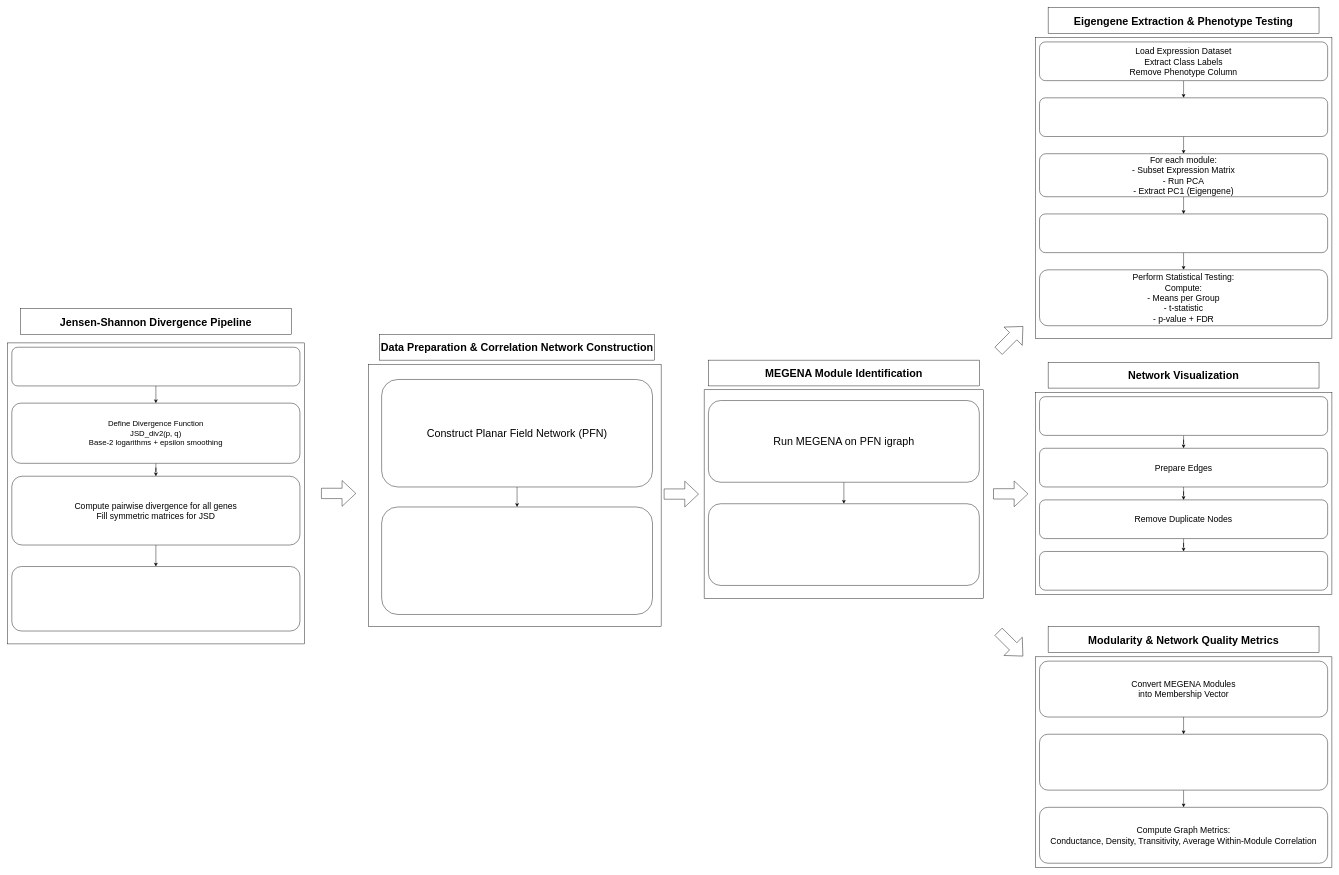
This 1339x875 diagram has some shape labels left out. Here are the shapes that lost their labels. From the top down, the centre of each, then its label:
At pixel 1183 117: "Ensure Data is Numeric Load MEGENA Modules".
At pixel 1183 233: "Combine Eigengenes + Phenotype Labels".
At pixel 155 366: "Load Expression Dataset Drop Metadata Columns Extract Gene Names + Expression".
At pixel 1183 415: "Prepare Node Attributes: ID, Degree, Gene Symbol, Module Group, Tooltips".
At pixel 517 560: "Build igraph Object".
At pixel 843 544: "Extract Module Summary".
At pixel 1183 570: "Generate Interactive Network Visualization".
At pixel 155 598: "Convert similarity matrix to edge list".
At pixel 1183 762: "Compute Modularity".
